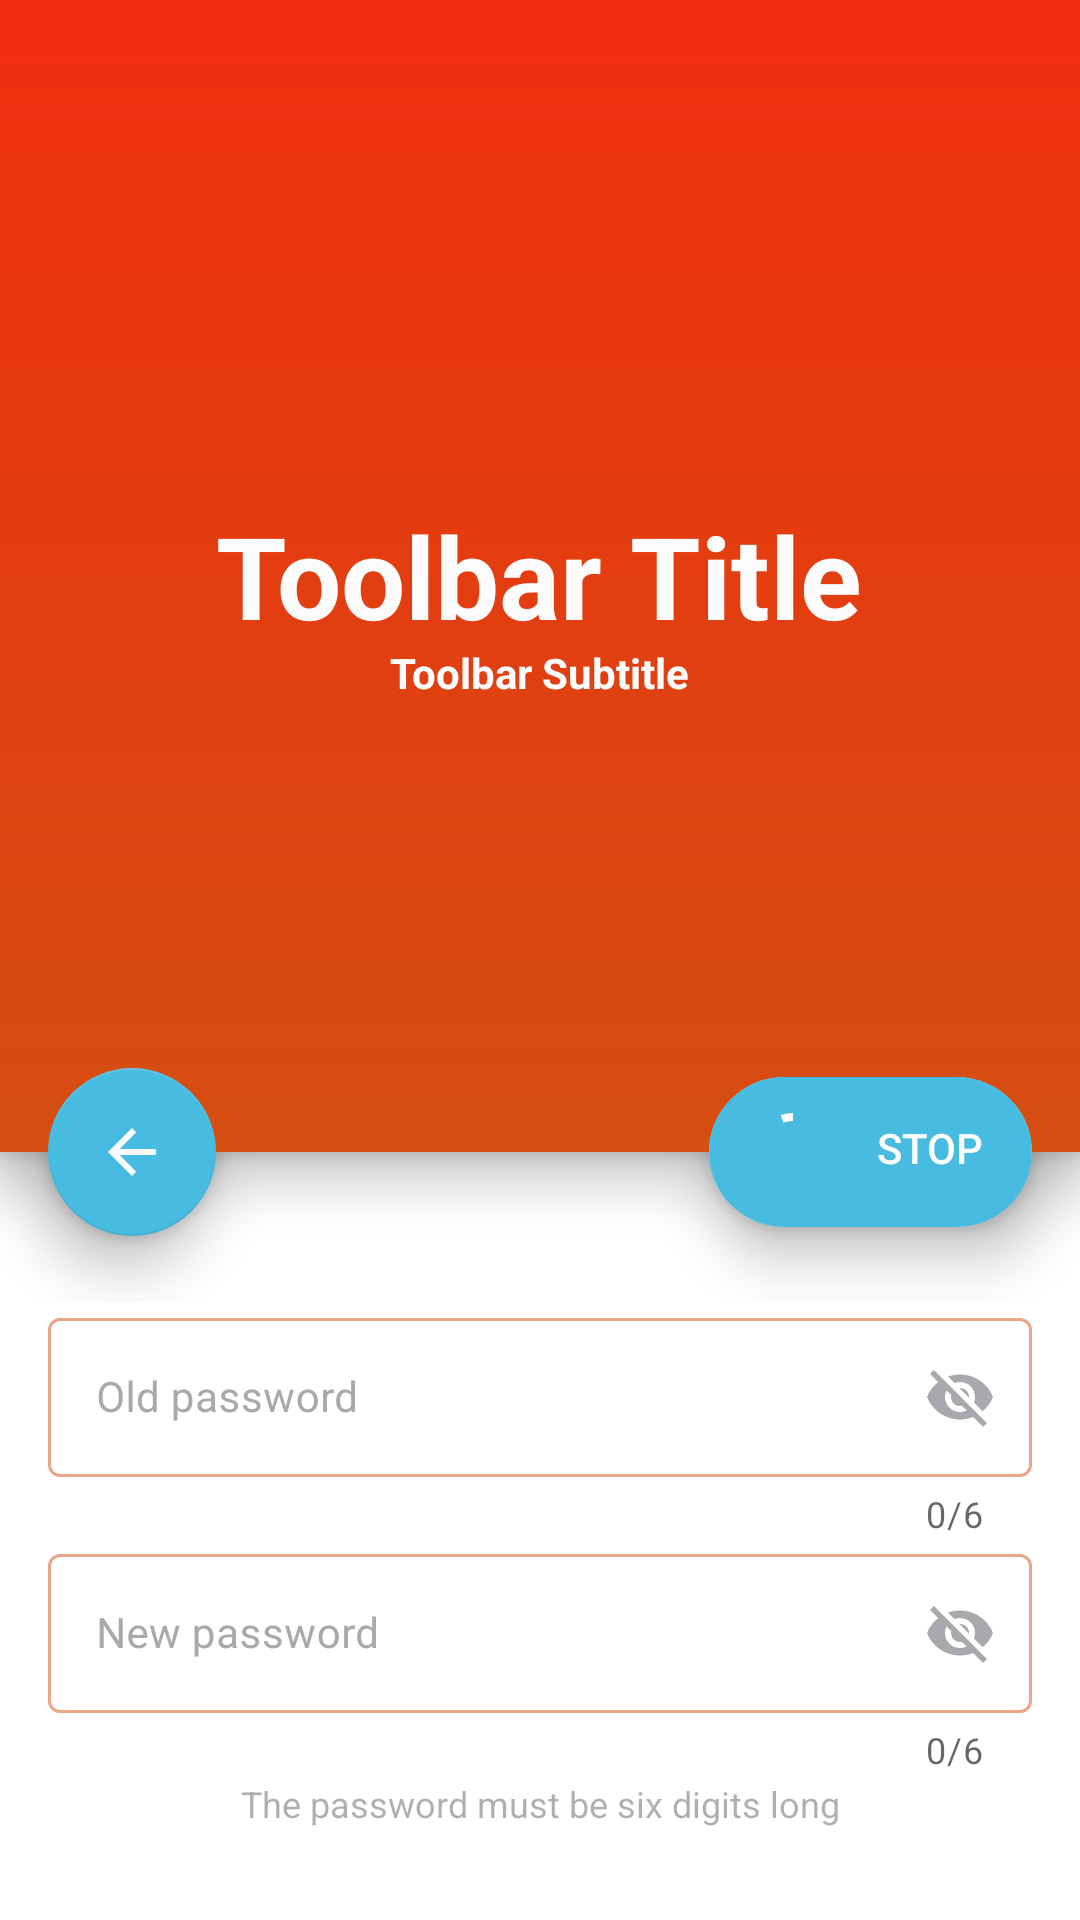

Icons on this 1080px x 1920px Android screen, each with the point to tap as (x,y):
arrow back: (132,1152)
